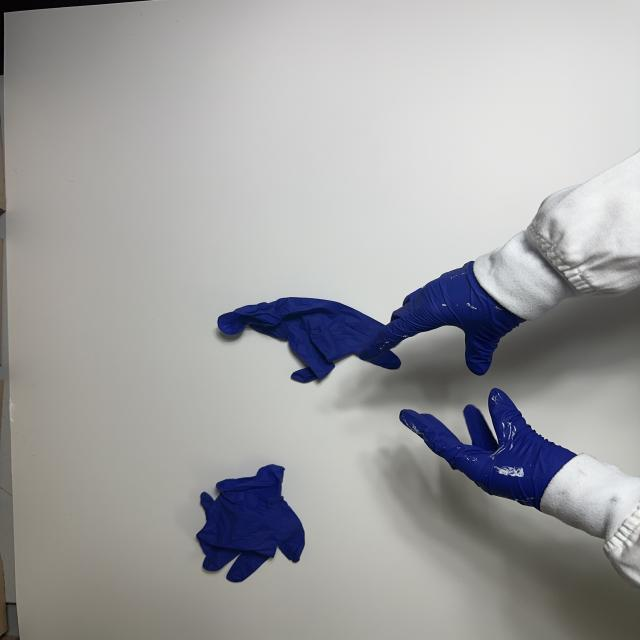gloves_contaminated: (399, 388, 576, 509), (360, 262, 524, 375)
